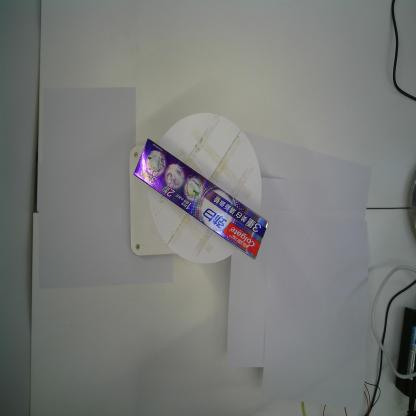Personal Hygiene: (131, 134, 270, 264)
